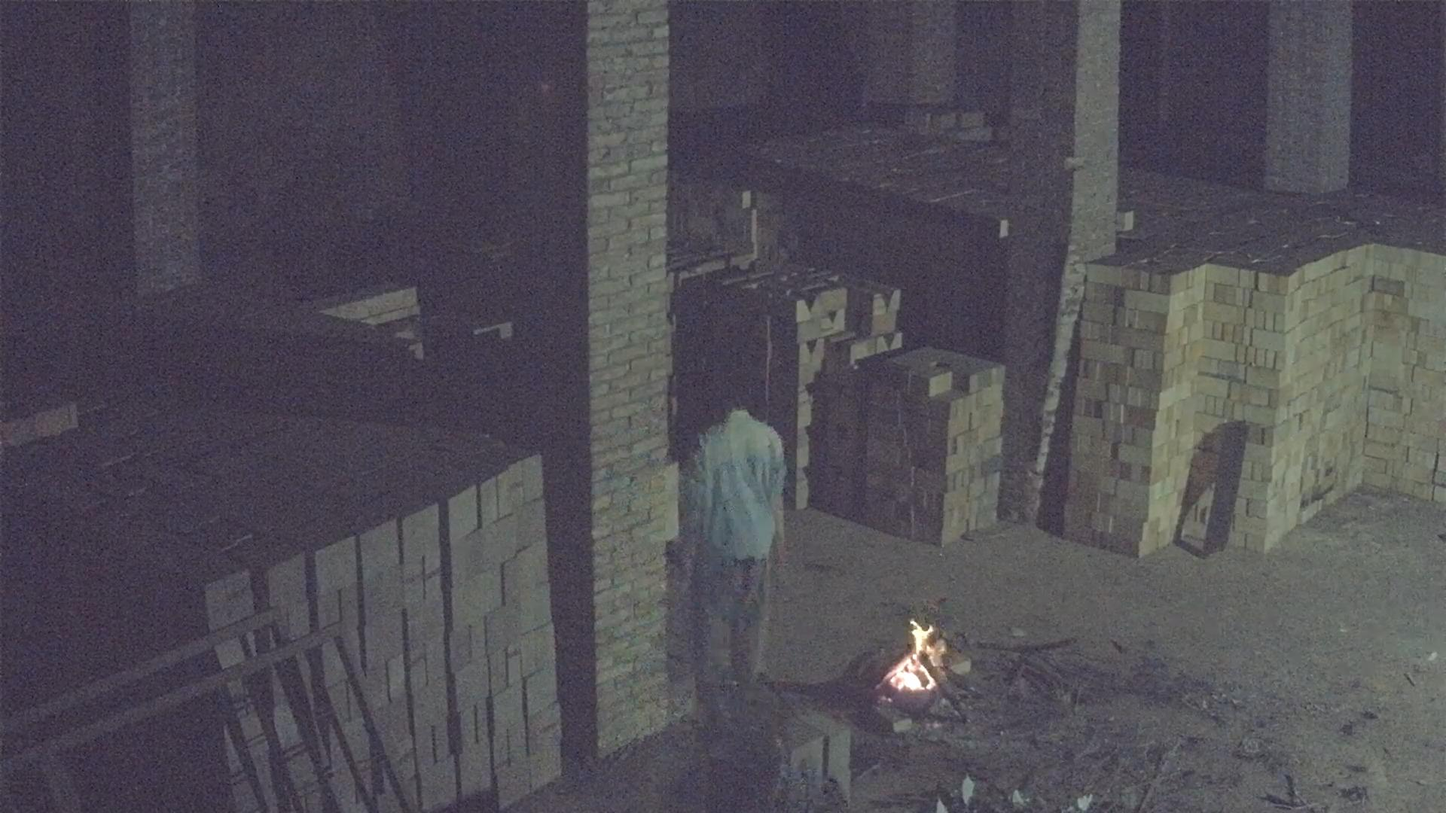fire: (875, 618, 952, 712)
